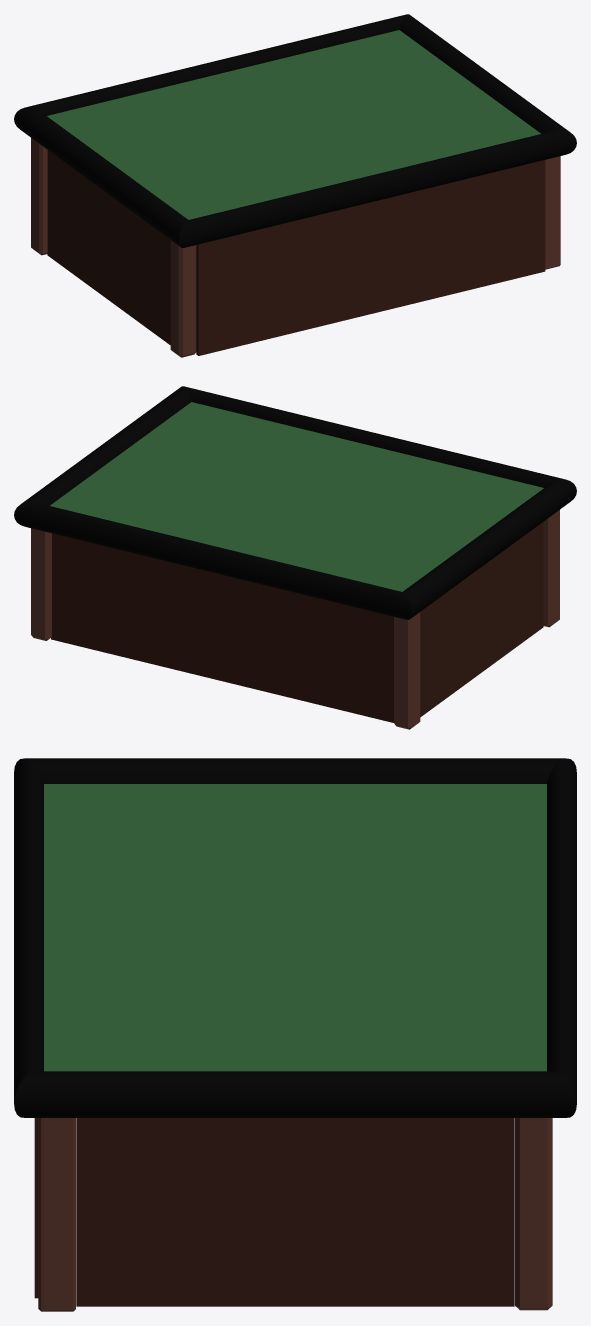
Rendered from Card Table v4.0.fbx.
The picture shows the model from 3 angles, top to bottom: view 1: azimuth 30°, elevation 25°; view 2: azimuth 150°, elevation 25°; view 3: azimuth 270°, elevation 25°; orthographic projection. The views are drawn at different scales.
Parts seen in each view (by area): view 1: Table_Top, Front_Panel2, Table_Edge1, Side_panel_2, Leg_1, Leg_2, Leg_4; view 2: Table_Top, Front_Panel, Table_Edge1, Side_panel_2, Leg_2, Leg_3, Leg_1; view 3: Table_Top, side_Panel_1, Table_Edge1, Leg_4, Leg_3, Front_Panel2.
Boxes of the visible parts, box(x1,y1,x2,y2) form: Table_Top: box(47, 30, 540, 219); Front_Panel2: box(196, 160, 545, 355); Table_Edge1: box(14, 14, 576, 247); Side_panel_2: box(47, 150, 170, 345); Leg_1: box(170, 240, 196, 357); Leg_2: box(31, 138, 47, 255); Leg_4: box(545, 156, 560, 269); Table_Top: box(50, 402, 543, 591); Front_Panel: box(51, 533, 393, 722); Table_Edge1: box(14, 386, 576, 619); Side_panel_2: box(420, 522, 543, 717); Leg_2: box(394, 612, 420, 729); Leg_3: box(31, 528, 51, 640); Leg_1: box(543, 510, 559, 627); Table_Top: box(44, 784, 546, 1071); side_Panel_1: box(76, 1118, 514, 1306); Table_Edge1: box(14, 758, 576, 1117); Leg_4: box(38, 1118, 75, 1311); Leg_3: box(515, 1118, 552, 1310); Front_Panel2: box(34, 1118, 38, 1298).
Size of the model in its own units: 2.88 by 0.9641 by 2.07.
